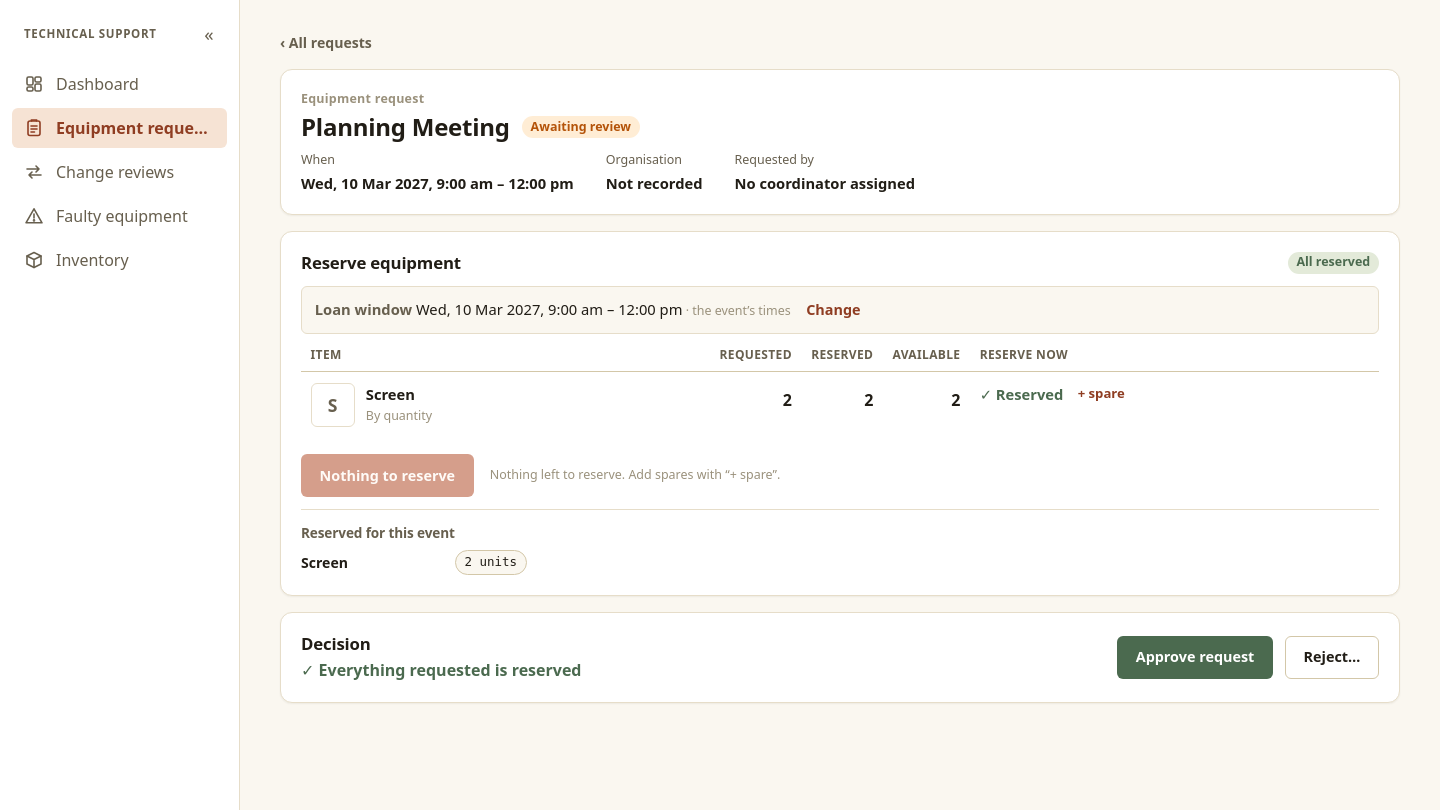
it: Technical Support UI integration › TS06 (happy): approves the request when all requested equipment is reserved for the event period
expect the heading "Planning Meeting" is shown: met, box x1=301 y1=113 x2=510 y2=142
expect the text "✓ Everything requested is reserved" is shown: met, box x1=301 y1=658 x2=582 y2=682
What coordinates should you click on to do the following:
click the button "Approve request"
I would click on:
 (1195, 657)
Its box is x1=1117 y1=636 x2=1273 y2=679.
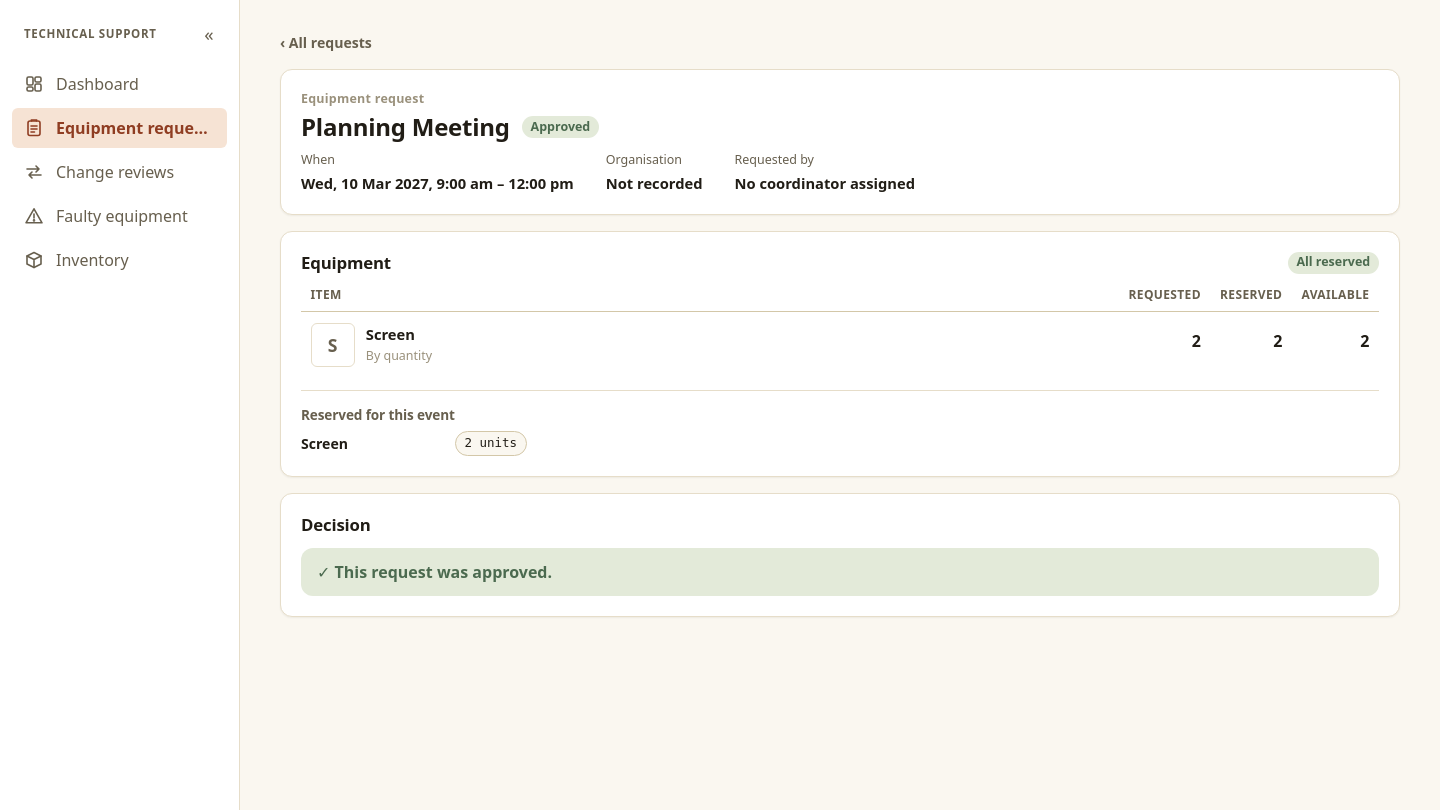
expect the text "2 units" is shown: met, box x1=455 y1=432 x2=527 y2=456
expect the text "✓ This request was approved." is shown: met, box x1=301 y1=548 x2=1379 y2=596
expect the button "Approve request" is gone: met
